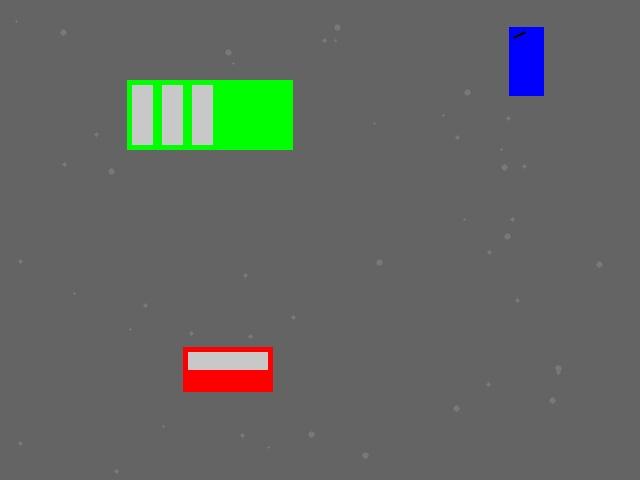bus: (127, 80, 292, 149)
car: (183, 347, 272, 391)
motorcycle: (509, 27, 543, 95)
